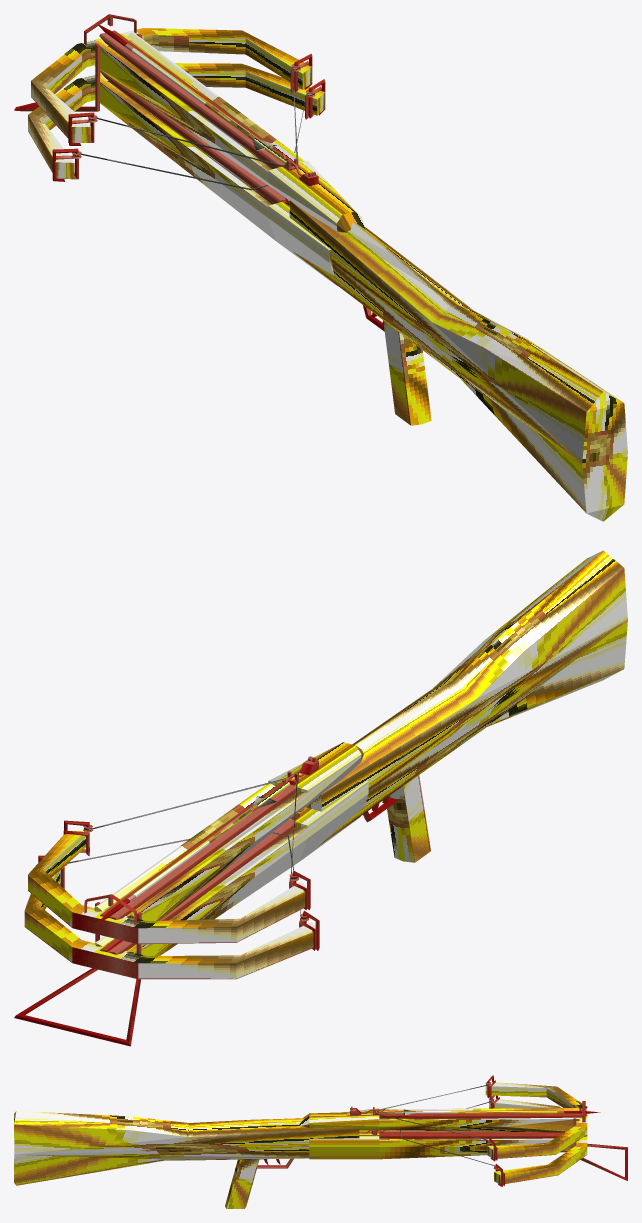
File: double_crossbow_stretching_lower_4.obj
The picture shows the model from 3 angles, top to bottom: view 1: azimuth 30°, elevation 25°; view 2: azimuth 150°, elevation 25°; view 3: azimuth 270°, elevation 25°; orthographic projection. The views are drawn at different scales.
Visible parts, largest first — view 1: Torus.009_Torus.008, Torus.000, Torus.001_Torus.007, Torus.002_Torus.009; view 2: Torus.009_Torus.008, Torus.000, Torus.001_Torus.007, Torus.002_Torus.009; view 3: Torus.009_Torus.008, Torus.000, Torus.001_Torus.007, Torus.002_Torus.009.
Boxes of the visible parts, x1,y1,x2,y2 form: Torus.009_Torus.008: (282,153,627,521); Torus.000: (14,14,365,286); Torus.001_Torus.007: (28,28,325,190); Torus.002_Torus.009: (98,25,287,164); Torus.009_Torus.008: (282,550,627,862); Torus.000: (14,742,368,1046); Torus.001_Torus.007: (24,778,319,979); Torus.002_Torus.009: (97,782,289,923); Torus.009_Torus.008: (14,1106,385,1208); Torus.000: (299,1101,627,1180); Torus.001_Torus.007: (375,1075,587,1186); Torus.002_Torus.009: (380,1109,600,1115).
Bounding box in the file's own units: 2.32 × 1.45 × 7.77.
